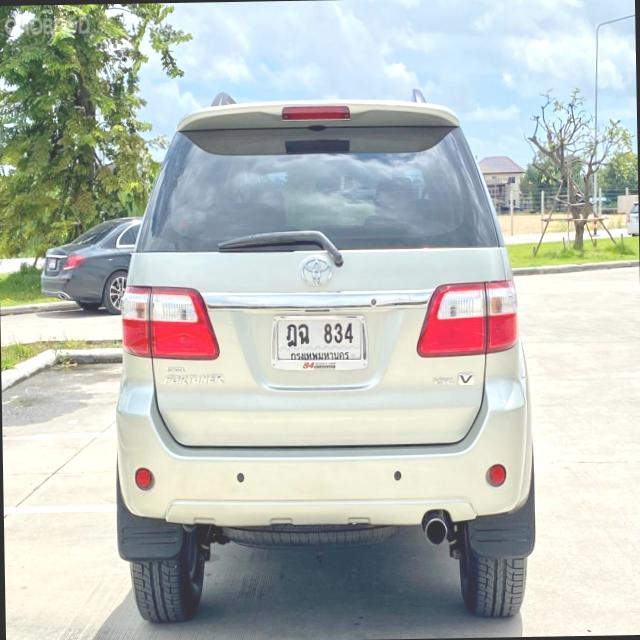license_plate: (268, 305, 371, 376)
